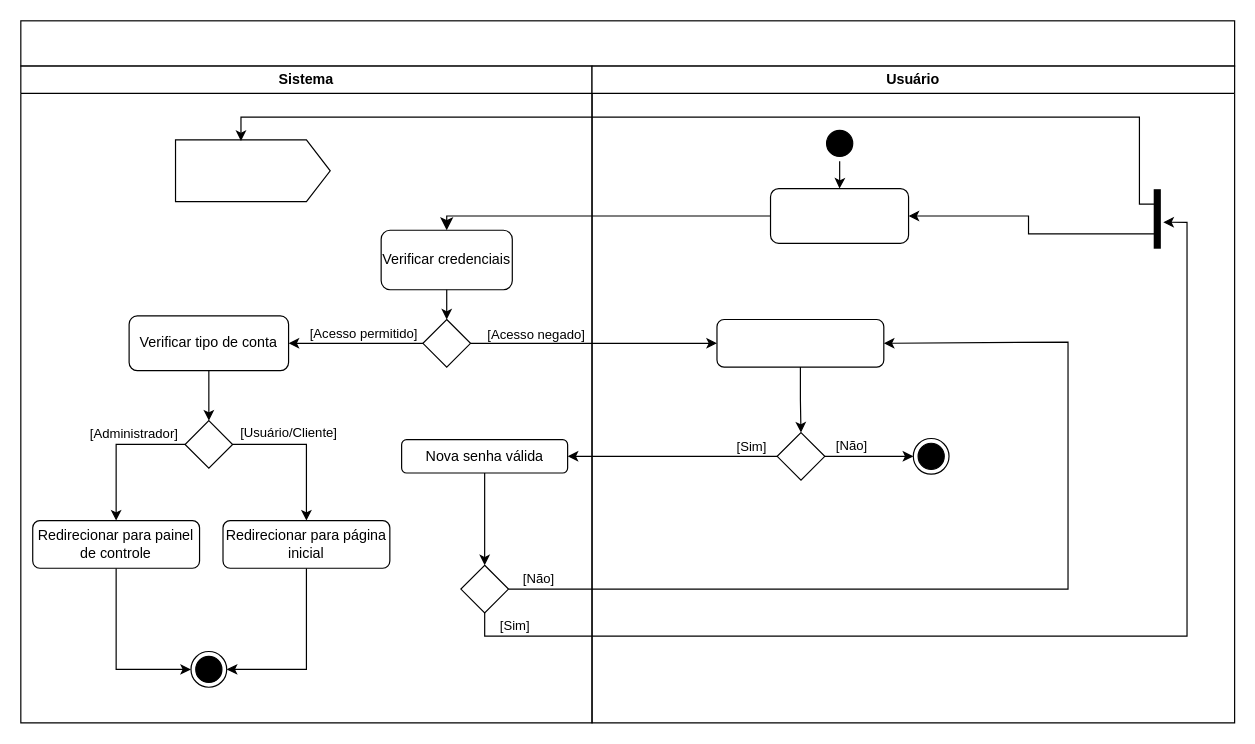
The diagram is 1255 pixels wide and 744 high, and some of its shapes have lost their labels. Here are the shapes that lost their labels. From the top down, the centre of each, then its label:
the point at 627,43: Diagrama de Atividades: Fazer login
the point at 252,170: Notificação senha alterado com sucesso
the point at 839,215: Inserir login e senha
the point at 800,342: Redefinir/Recuperar senha
